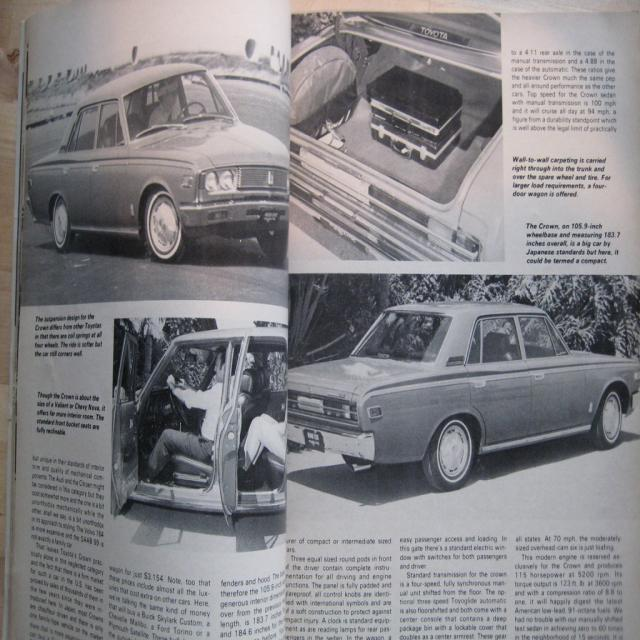car: (284, 301, 639, 495), (288, 10, 504, 262), (26, 58, 288, 262), (113, 320, 288, 526)
